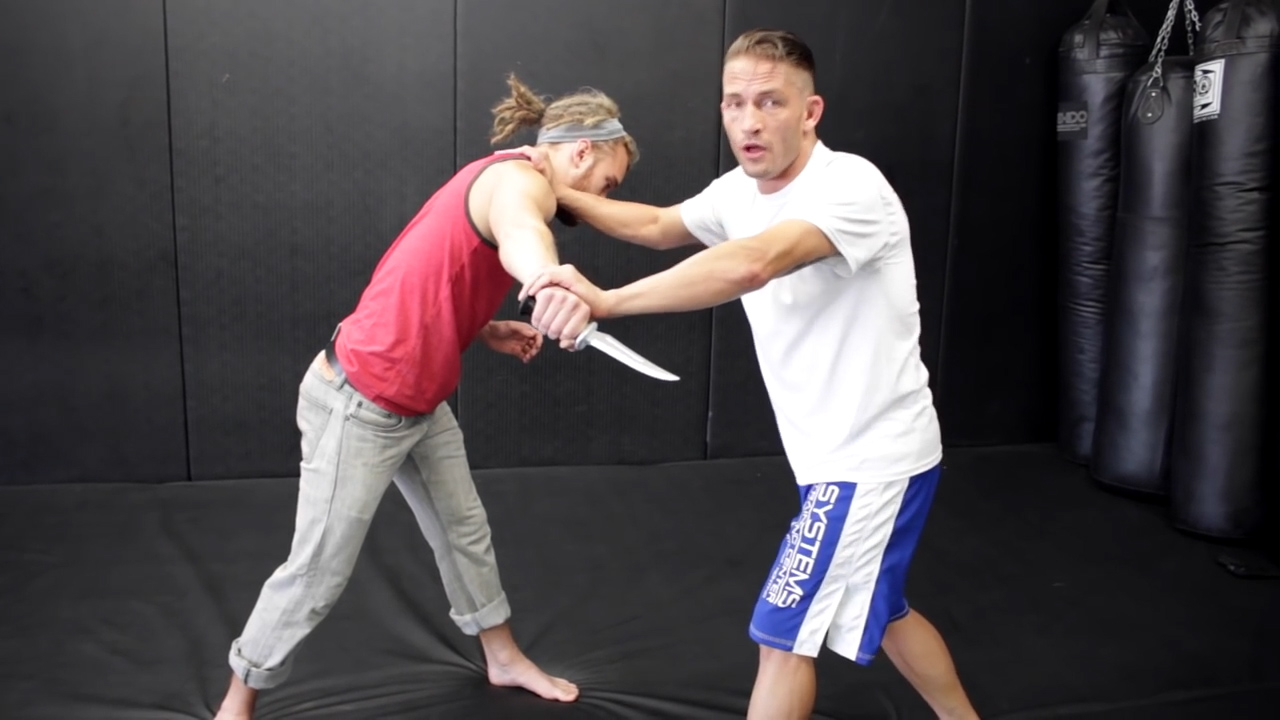knife: (508, 284, 696, 400)
